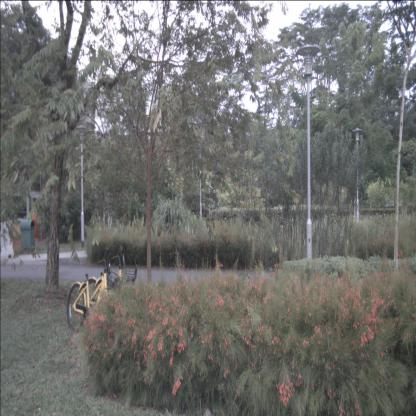movable_object-barrier: (11, 214, 39, 254), (0, 219, 16, 262)
vehicle-bicycle: (83, 242, 138, 340), (66, 247, 124, 333)
